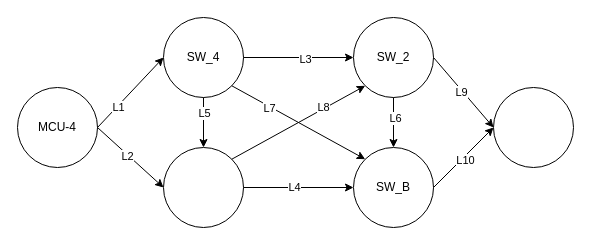
Some shapes in this 591 by 245 pixel diagram are drawn without their labels. The shapes that lost their labels are listed below. From the top down, each one's box as (x1, y1, x2, y2) in pixels, then its label:
(492, 86, 574, 168): SGA
(162, 146, 244, 228): SW_A
